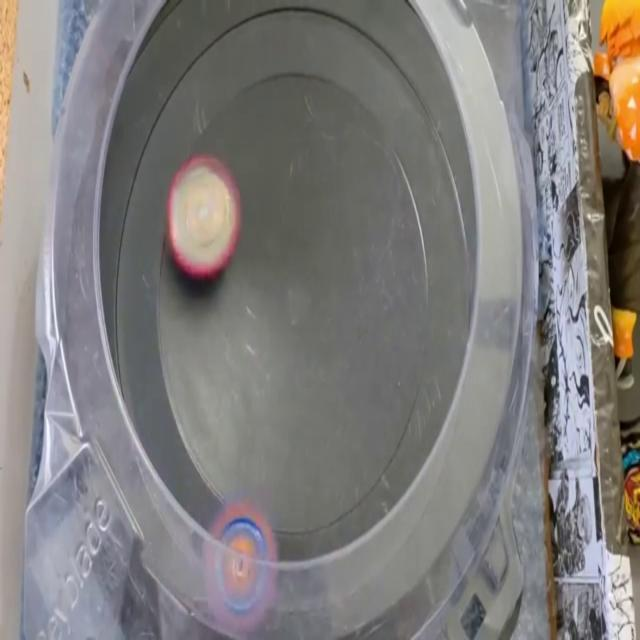Beyblade: (202, 499, 278, 638), (166, 156, 241, 276)
